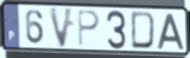3: (104, 8, 128, 51)
6: (24, 9, 45, 46)
A: (156, 12, 186, 51)
D: (130, 10, 157, 51)
P: (76, 9, 102, 49)
V: (47, 5, 76, 50)
